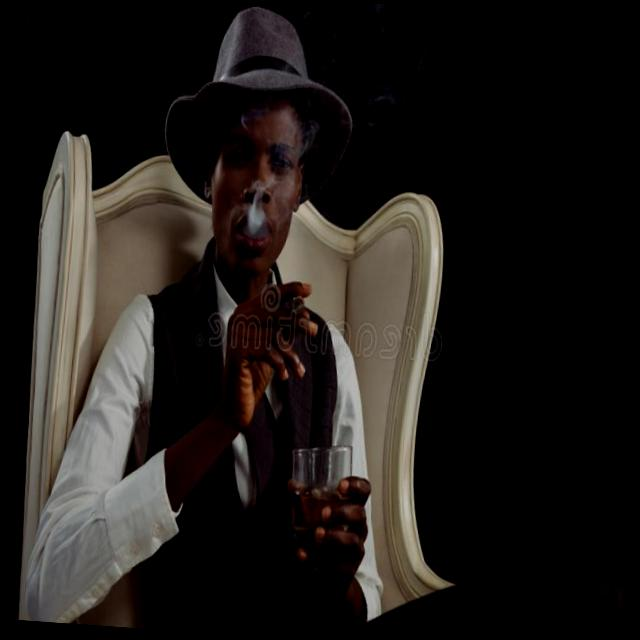smoke: (258, 268, 318, 329)
